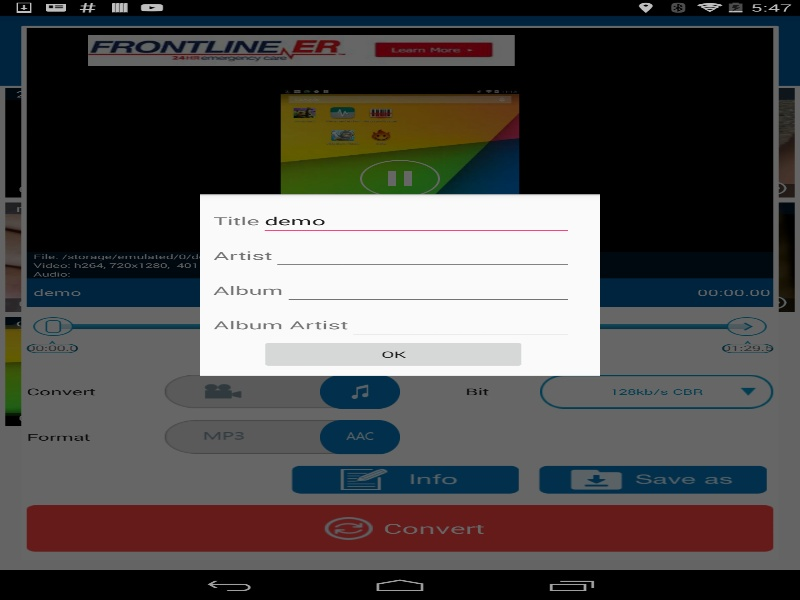Button: (260, 339, 526, 369)
Input: (259, 206, 573, 235), (272, 241, 573, 270), (283, 276, 573, 304), (348, 310, 573, 339)
